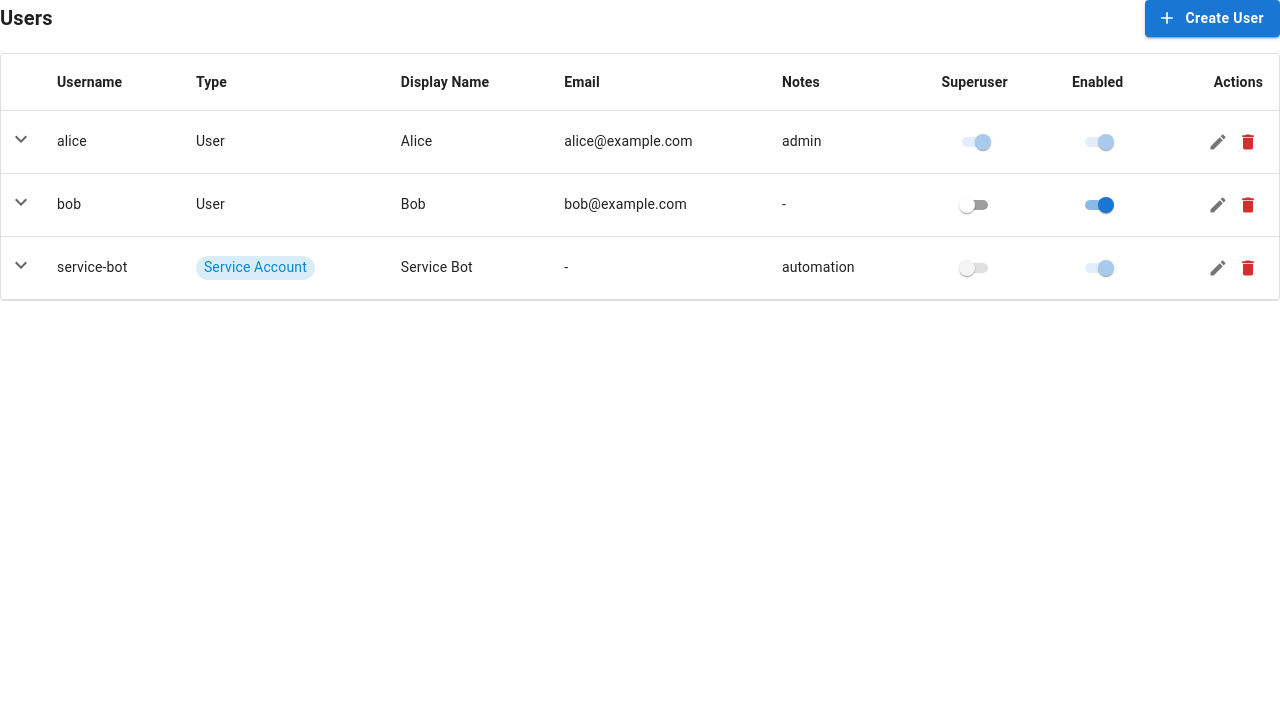
Test: AdminUsers › Create user dialog › opens with the password field present and the policy hint
The image size is (1280, 720).
Expected: the text "alice" is shown, [41, 110, 180, 173]
Click the button "Create User".
click(1213, 18)  # box [1146, 0, 1279, 36]
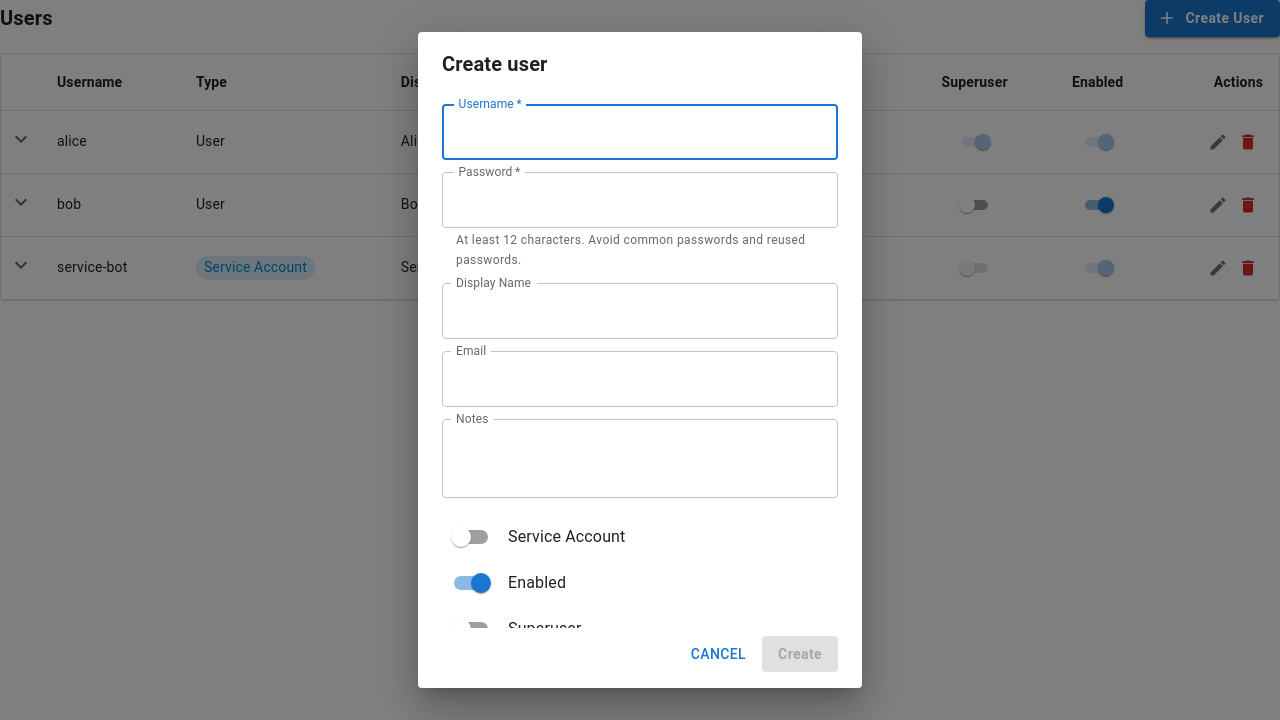
Expected: the heading "Create user" is shown, [442, 52, 548, 76]
Expected: the text "At least 12 characters. Avoid common passwords" is shown, [456, 233, 806, 267]
